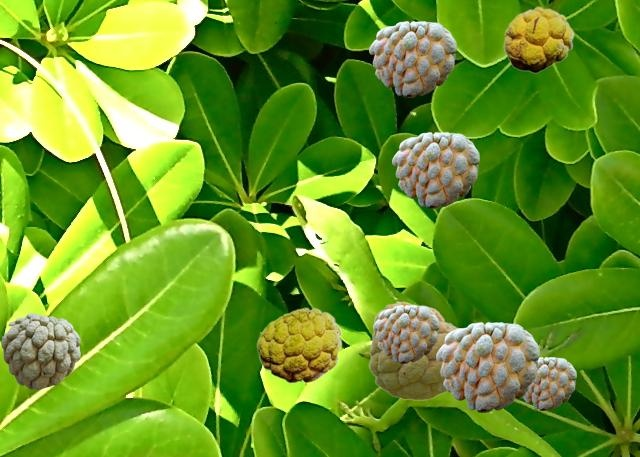atis: (436, 322, 538, 411), (368, 301, 457, 399), (392, 132, 478, 207), (369, 21, 455, 96), (256, 307, 341, 382), (1, 313, 79, 388), (503, 6, 573, 72), (373, 305, 438, 362), (522, 357, 575, 409)
